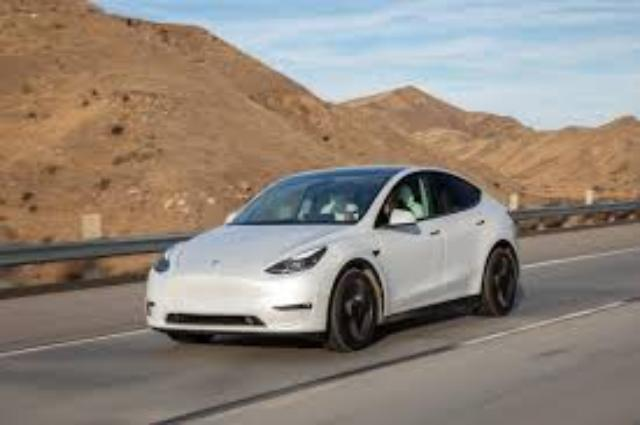tesla: (144, 166, 522, 352)
